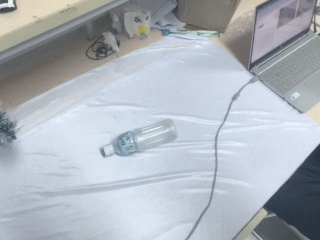bottle: (98, 118, 178, 159)
box: (174, 1, 242, 35)
